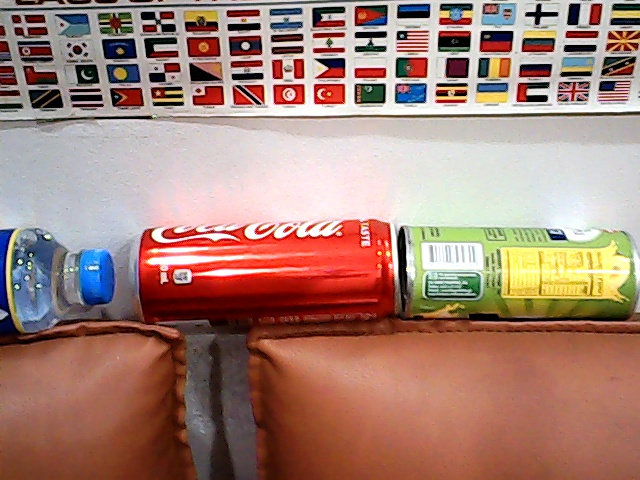Cola: (118, 212, 406, 342)
Pine Juice: (396, 206, 640, 340)
